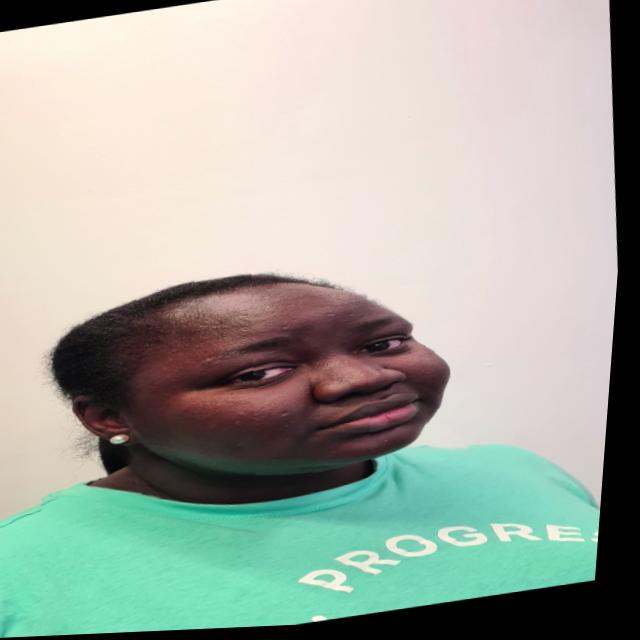sad: (28, 239, 491, 520)
